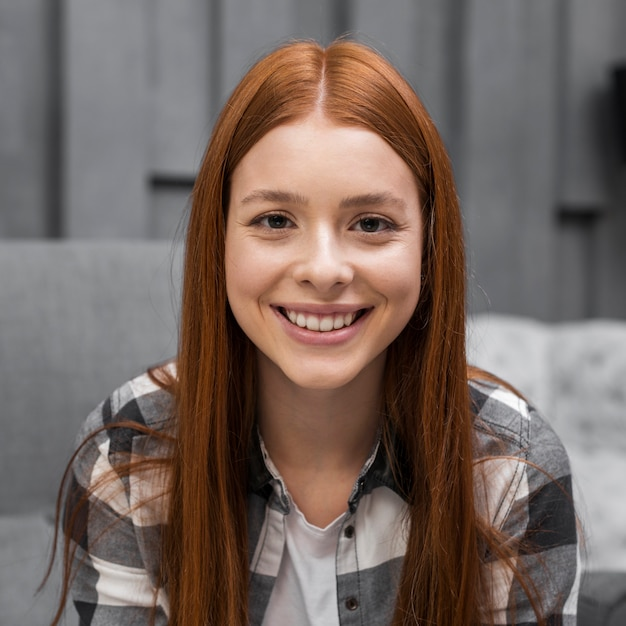teen: (187, 22, 465, 405)
